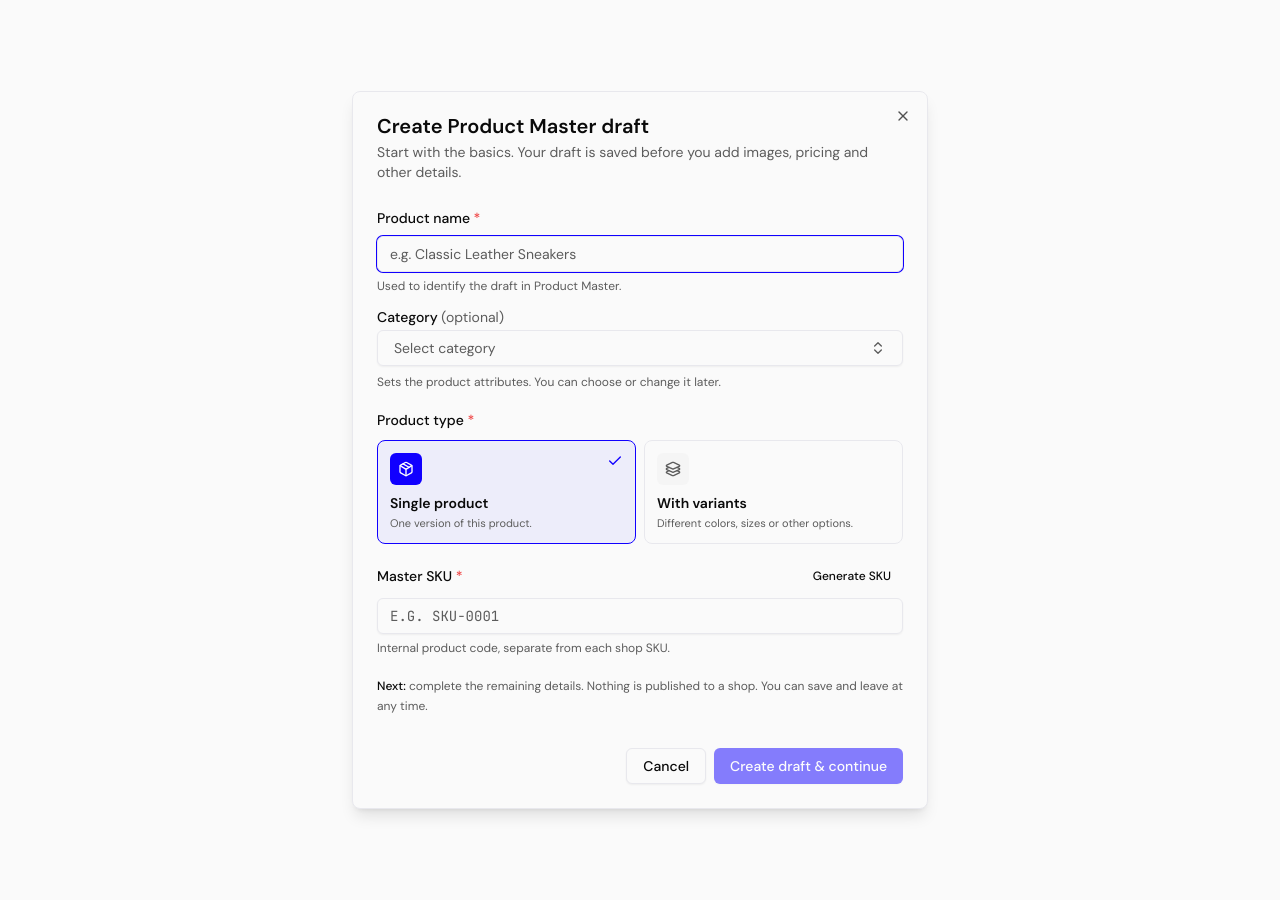
Test: Create Product Master category › keeps the entered form and reports an unsuccessful save instead of claiming success
Type " new-001 " into the field labelled "Master SKU *" at (640, 616), box [377,598,903,634]
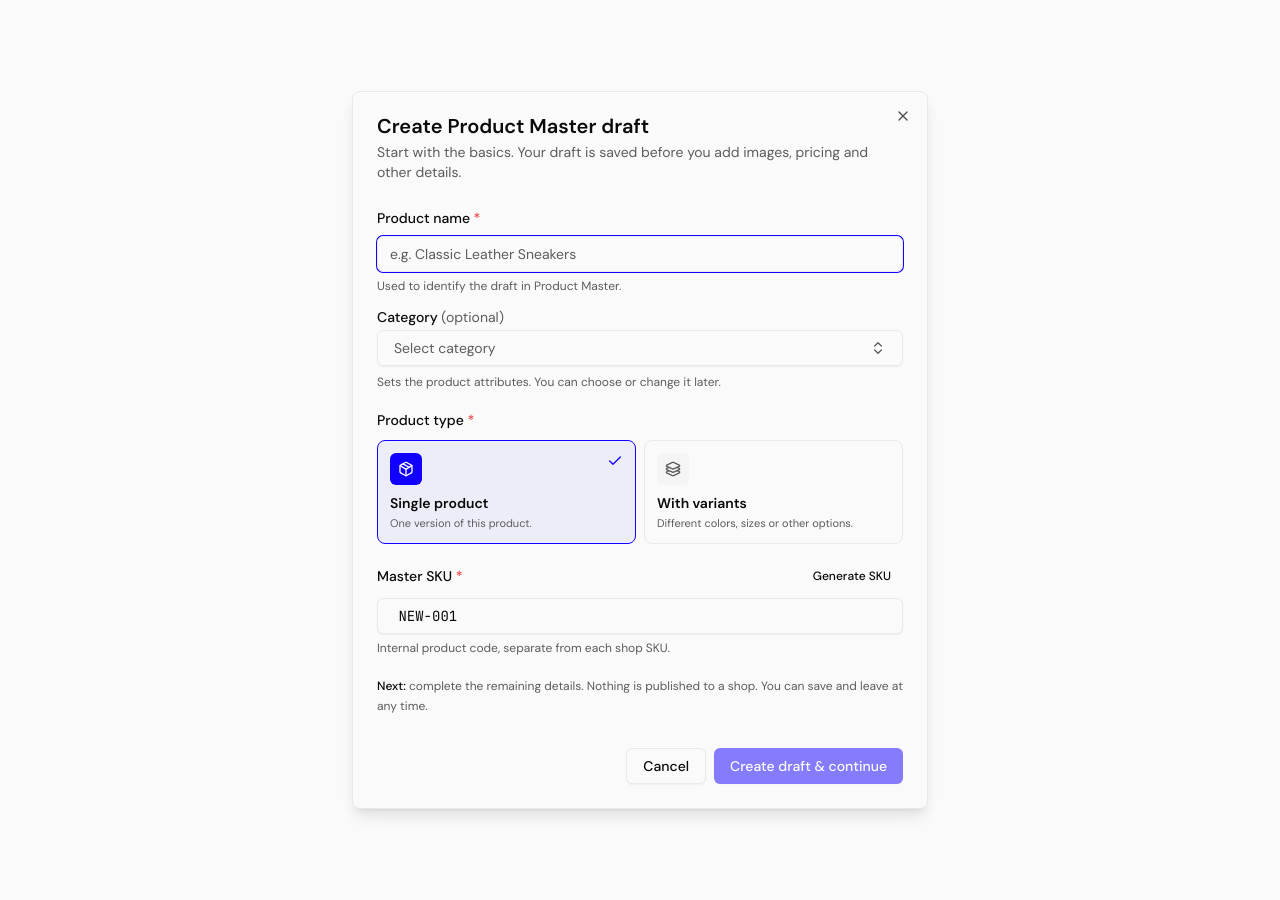
Type " New product " into the field labelled "Product name *" at (640, 254), box [377,236,903,272]
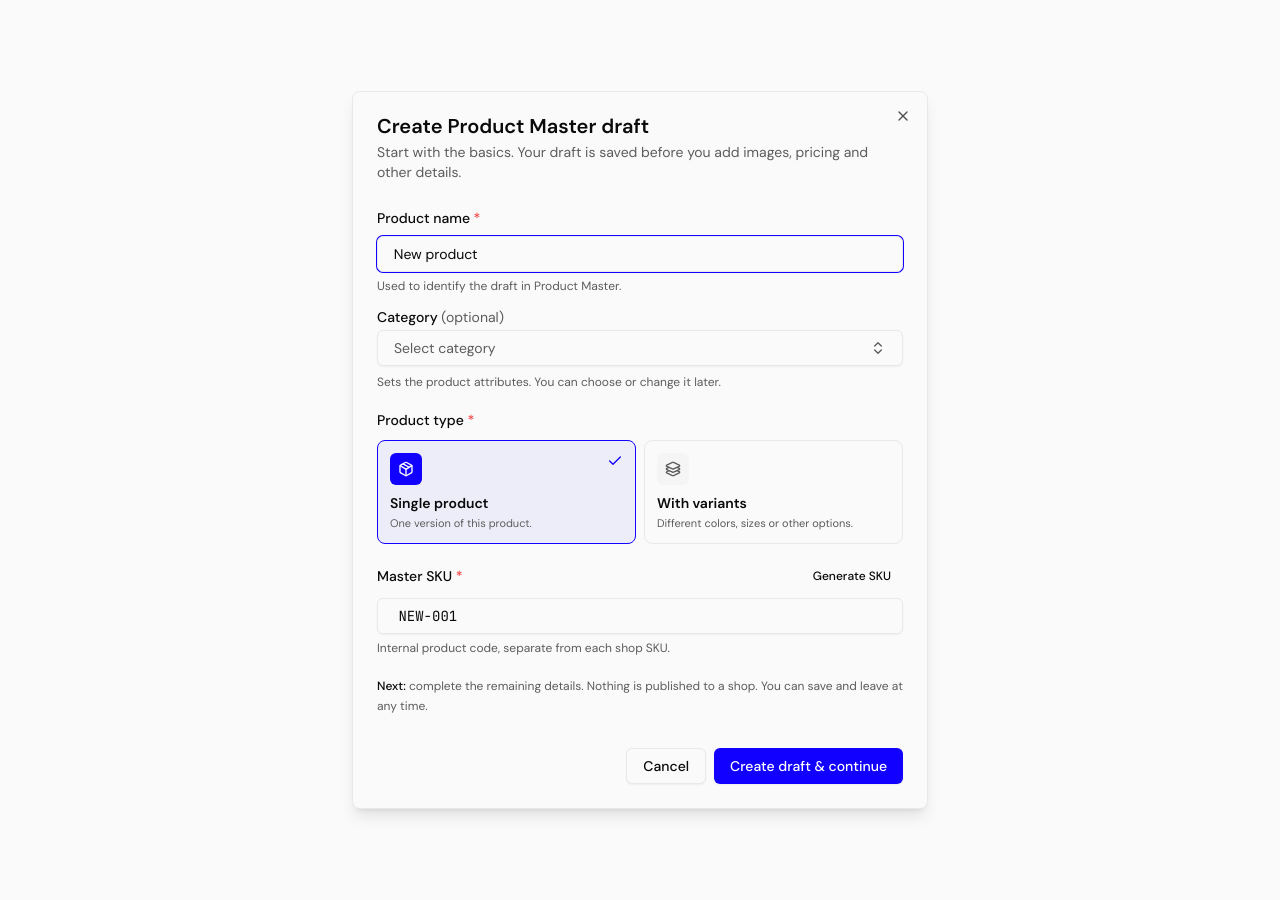
Click the button "Create draft & continue" at (809, 766), box [714,748,903,784]
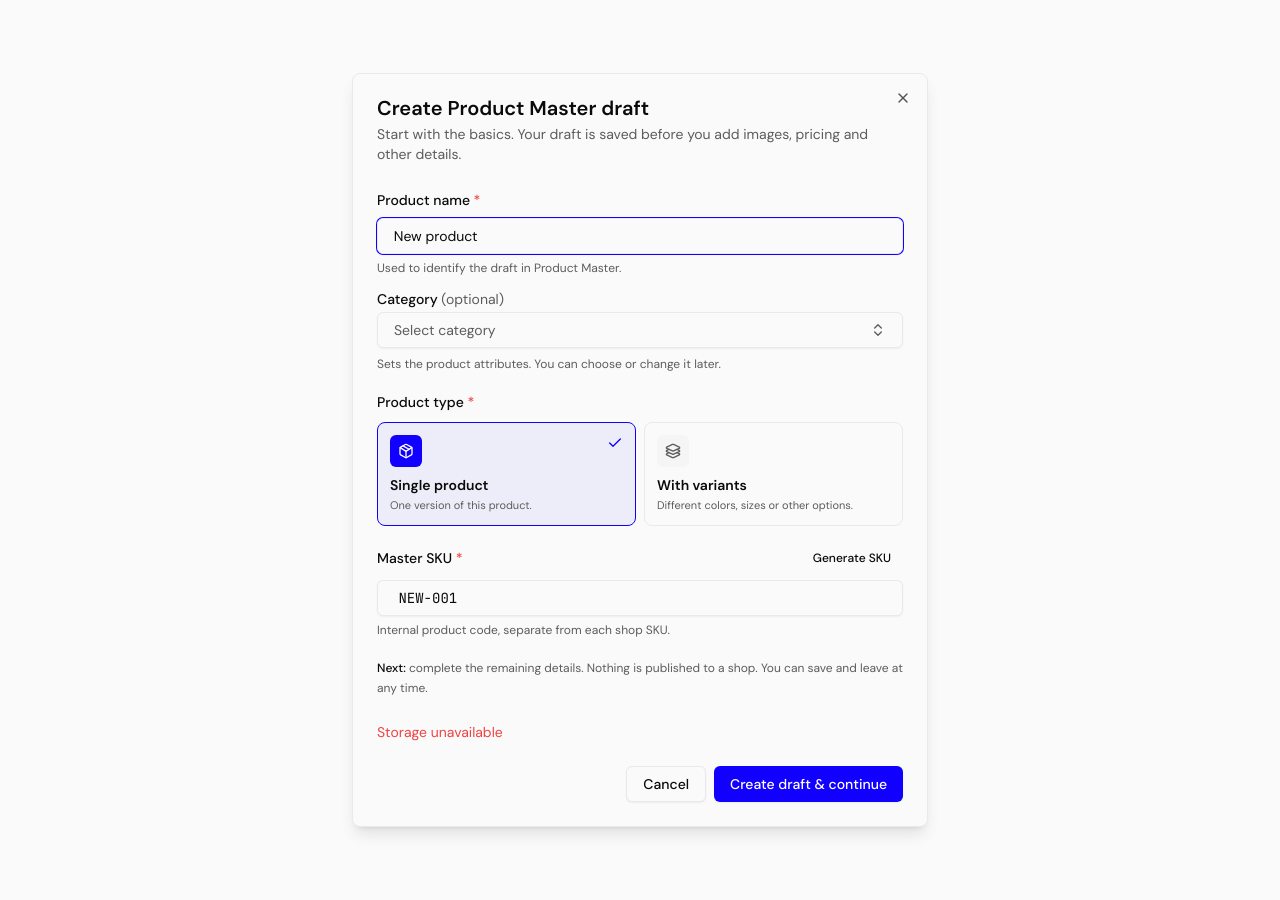
Check: the message reads "Storage unavailable", box [377,723,503,741]
